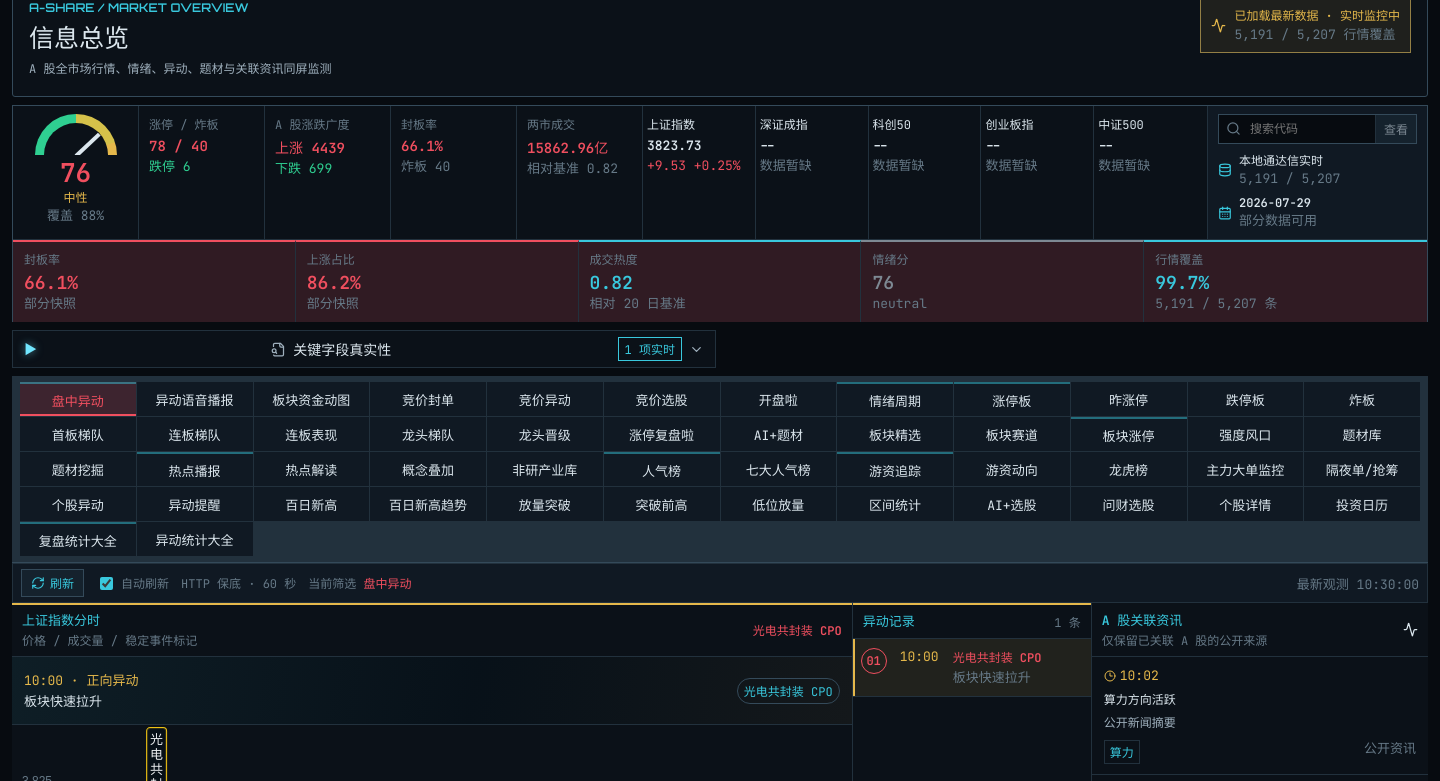
it: MarketOverviewView › opens an independent workspace instead of only highlighting a menu
Expected: the text "本地通达信实时" is shown, [1239, 153, 1323, 169]
Click the button "炸板": point(1362, 399) [1304, 382, 1420, 416]
(page scrolled)
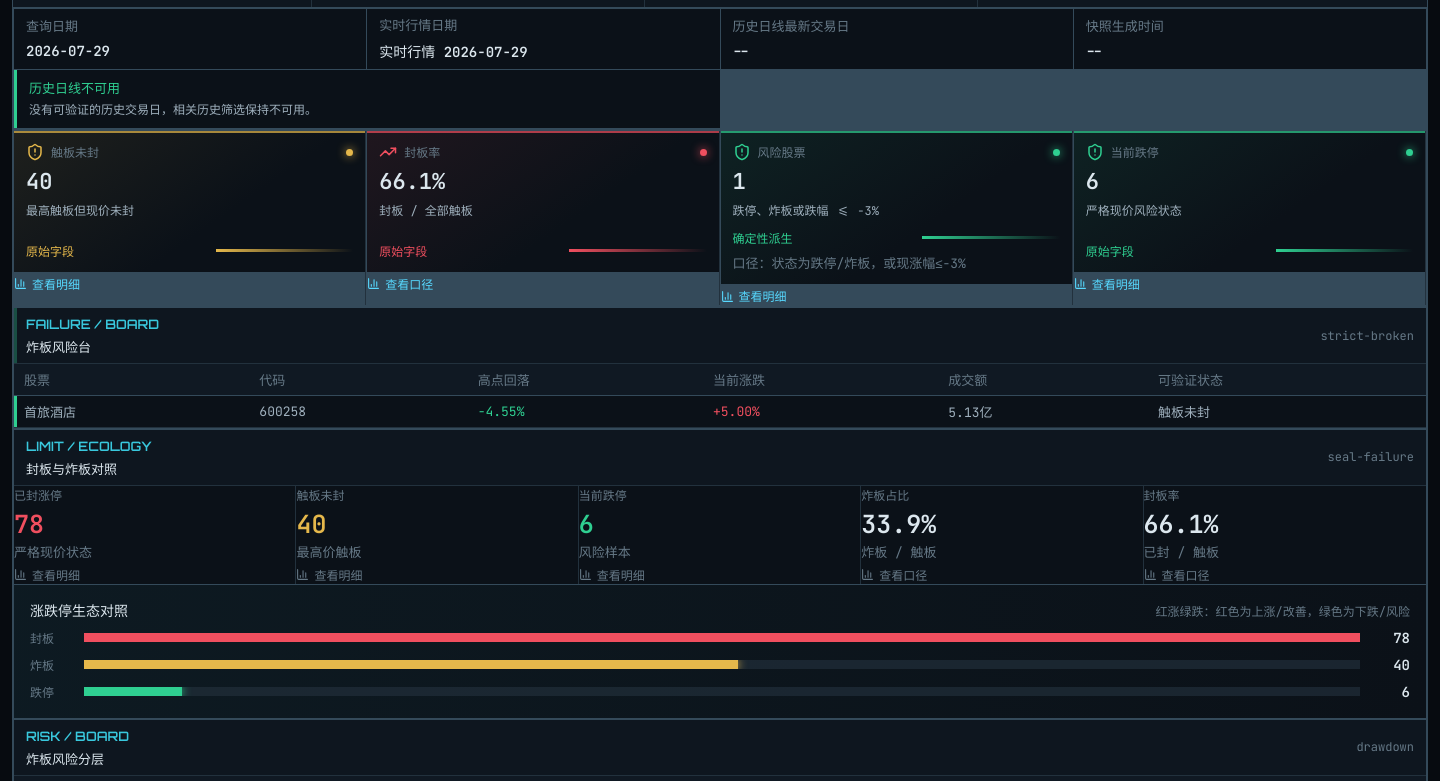
Result: the element "炸板风险台" shows "首旅酒店" at [24, 404, 76, 421]
